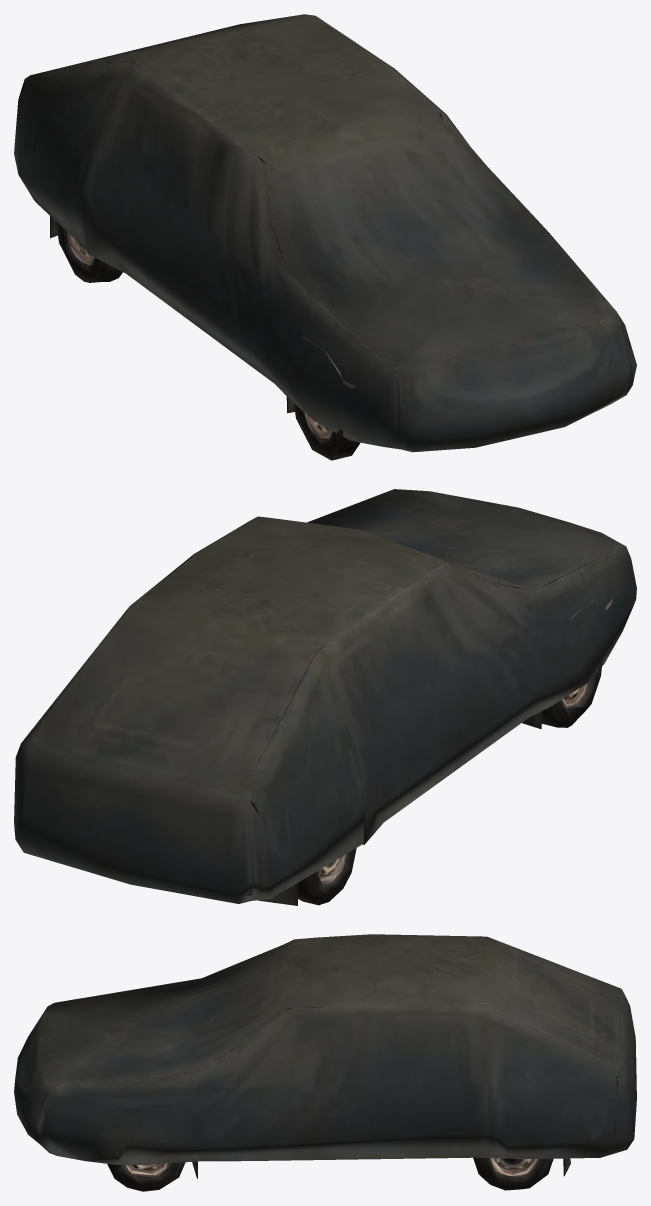
Rendered from covered_car.glb.
3 views of the same model, one above another, from view 1: azimuth 30°, elevation 25°; view 2: azimuth 150°, elevation 25°; view 3: azimuth 270°, elevation 25° (orthographic). The views are drawn at different scales.
Visible parts, largest first — view 1: covered_car_wheel_01; view 2: covered_car_wheel_01; view 3: covered_car_wheel_01.
Boxes of the visible parts, left/top/right/bottom form: covered_car_wheel_01: left=14, top=14, right=636, bottom=460; covered_car_wheel_01: left=14, top=489, right=636, bottom=905; covered_car_wheel_01: left=14, top=934, right=636, bottom=1191.
Size of the model in its own units: 1.79 by 1.4 by 4.38.
1 material, 1 textured.
